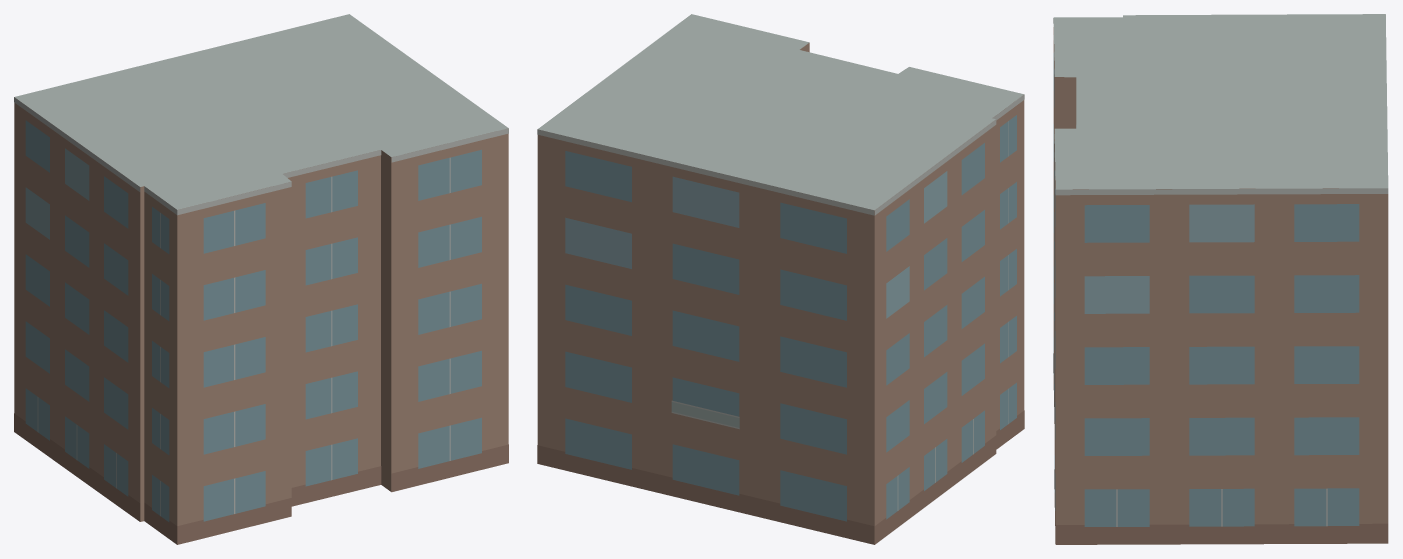
File: survey-upis-32701905.glb
3 views of the same model, side by side, from view 1: azimuth 30°, elevation 25°; view 2: azimuth 150°, elevation 25°; view 3: azimuth 270°, elevation 25° (orthographic). The views are drawn at different scales.
Visible parts, largest first — view 1: survey-upis-32701905.tmp; view 2: survey-upis-32701905.tmp; view 3: survey-upis-32701905.tmp.
Part boxes in pixels (x1,y1,x2,y2): survey-upis-32701905.tmp: (14, 14, 508, 544); survey-upis-32701905.tmp: (537, 14, 1024, 544); survey-upis-32701905.tmp: (1053, 14, 1388, 544).
Bounding box in the file's own units: 16.16 × 15.25 × 13.03.
